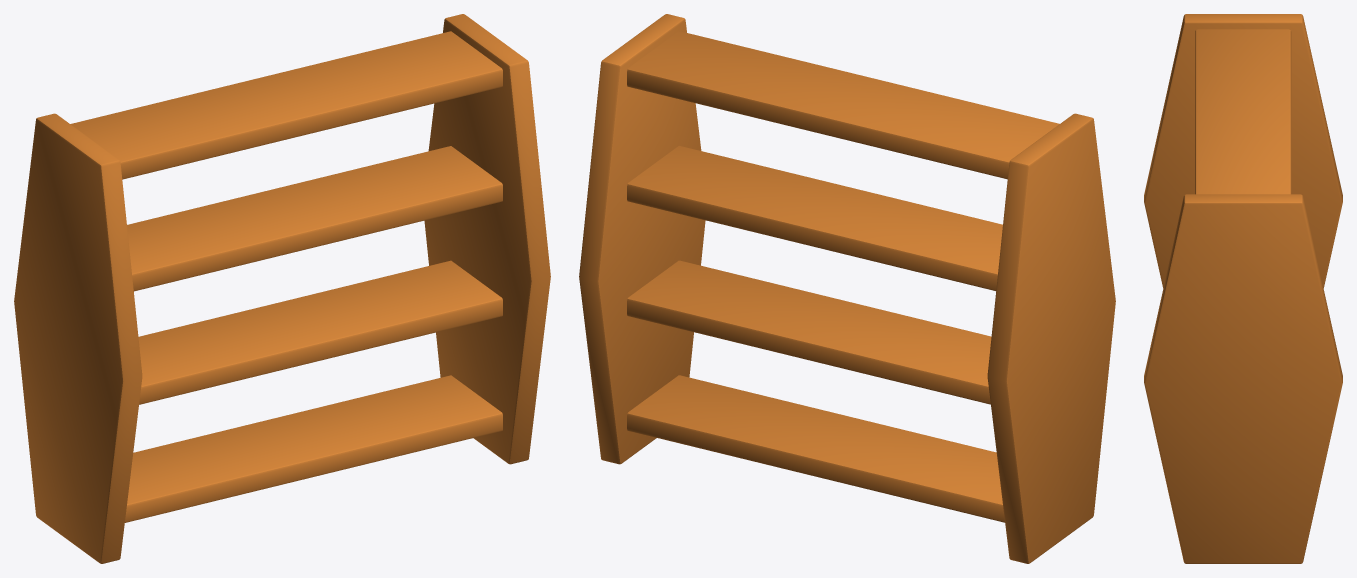
The model's file is raflar.fbx.
3 views of the same model, side by side, from view 1: azimuth 30°, elevation 25°; view 2: azimuth 150°, elevation 25°; view 3: azimuth 270°, elevation 25° (orthographic). The views are drawn at different scales.
Visible parts, largest first — view 1: Cube.020, Cube.018, Cube.019; view 2: Cube.020, Cube.018, Cube.019; view 3: Cube.019, Cube.018, Cube.020.
Boxes of the visible parts, x1,y1,x2,y2 form: Cube.020: [70, 31, 502, 522]; Cube.018: [14, 113, 142, 563]; Cube.019: [424, 14, 550, 464]; Cube.020: [627, 31, 1059, 522]; Cube.018: [987, 113, 1115, 563]; Cube.019: [579, 14, 705, 464]; Cube.019: [1144, 194, 1342, 563]; Cube.018: [1144, 14, 1342, 287]; Cube.020: [1195, 29, 1291, 194].
Bounding box in the file's own units: 667 × 595 × 296.
